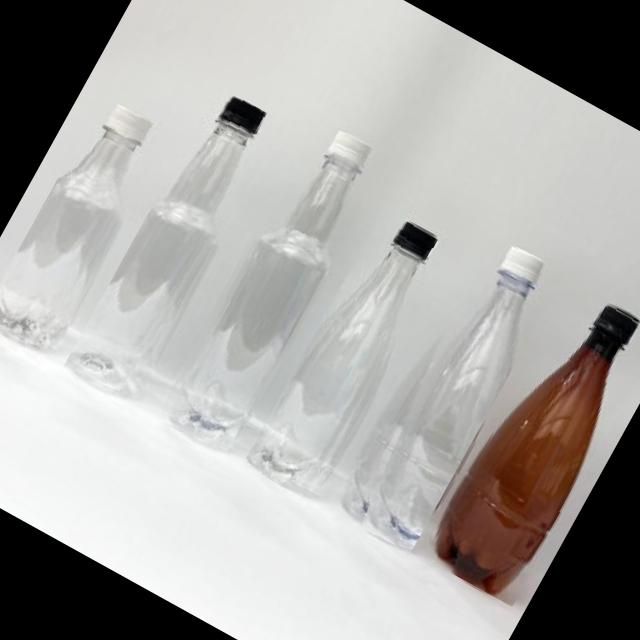plastic bottle: (150, 118, 389, 456), (330, 230, 566, 554), (62, 87, 286, 406), (423, 283, 640, 607), (242, 207, 456, 503), (0, 96, 171, 358)
